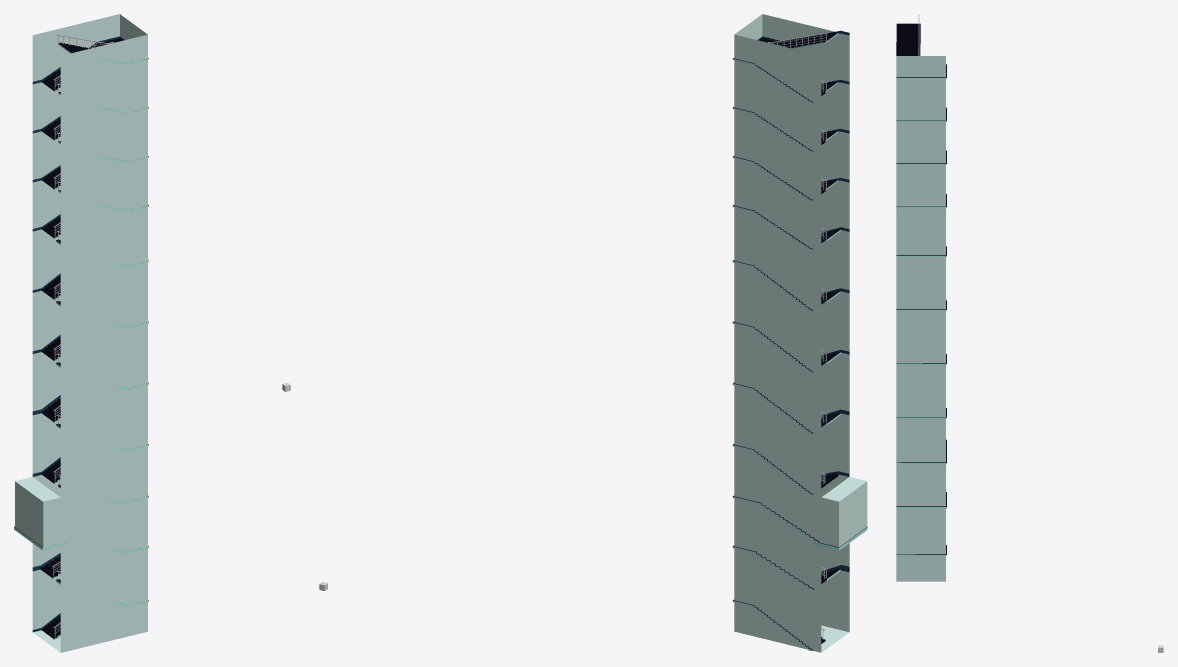
File: UTypeStair_R.fbx
3 renders of one model, left to right at view 1: azimuth 30°, elevation 25°; view 2: azimuth 150°, elevation 25°; view 3: azimuth 270°, elevation 25°, orthographic. The views are drawn at different scales.
Parts seen in each view (by area): view 1: Srair_Passage_1F001, Srair_Passage_B1F001, Srair_Passage_8F, Srair_Passage_4F001, Srair_Passage_3F001, Srair_Passage_2F001, Srair_Passage_7F, Srair_Passage_6F, Srair_Passage_5F, UTypeStair_8F; view 2: Srair_Passage_1F001, Srair_Passage_B1F001, Srair_Passage_4F001, Srair_Passage_8F, Srair_Passage_3F001, Srair_Passage_2F001, Srair_Passage_5F, Srair_Passage_7F, Srair_Passage_6F, UTypeStair_8F; view 3: Srair_Passage_B1F001, Srair_Passage_1F001, Srair_Passage_4F001, Srair_Passage_3F001, Srair_Passage_2F001, Srair_Passage_5F, Srair_Passage_6F, Srair_Passage_7F, Srair_Passage_8F, UTypeStair_8F.
Part boxes in pixels (x1,y1,x2,y2): Srair_Passage_1F001: (15, 413, 147, 547); Srair_Passage_B1F001: (32, 522, 147, 652); Srair_Passage_8F: (32, 14, 147, 104); Srair_Passage_4F001: (32, 229, 147, 318); Srair_Passage_3F001: (32, 294, 147, 379); Srair_Passage_2F001: (32, 356, 147, 435); Srair_Passage_7F: (32, 82, 147, 153); Srair_Passage_6F: (32, 131, 147, 202); Srair_Passage_5F: (32, 180, 147, 251); UTypeStair_8F: (41, 34, 148, 91); Srair_Passage_1F001: (734, 408, 867, 547); Srair_Passage_B1F001: (734, 522, 849, 652); Srair_Passage_4F001: (734, 224, 849, 318); Srair_Passage_8F: (734, 14, 849, 104); Srair_Passage_3F001: (734, 288, 849, 379); Srair_Passage_2F001: (734, 349, 849, 435); Srair_Passage_5F: (734, 175, 849, 251); Srair_Passage_7F: (734, 77, 849, 153); Srair_Passage_6F: (734, 126, 849, 202); UTypeStair_8F: (732, 32, 838, 102); Srair_Passage_B1F001: (896, 485, 945, 581); Srair_Passage_1F001: (896, 390, 945, 484); Srair_Passage_4F001: (896, 228, 945, 287); Srair_Passage_3F001: (896, 287, 945, 341); Srair_Passage_2F001: (896, 341, 945, 390); Srair_Passage_5F: (896, 185, 945, 228); Srair_Passage_6F: (896, 142, 945, 185); Srair_Passage_7F: (896, 99, 945, 142); Srair_Passage_8F: (896, 56, 945, 99); UTypeStair_8F: (896, 14, 946, 78).
Bounding box in the file's own units: 23.71 × 34.65 × 15.71.
